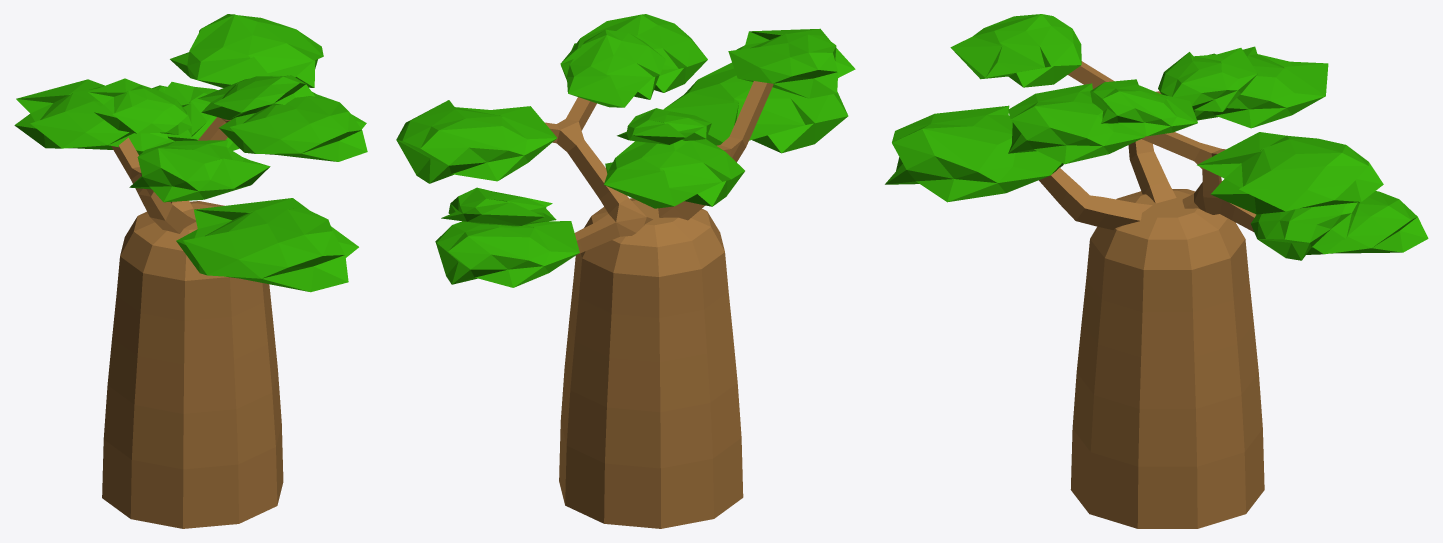
Rendered from LV2Tree.glb.
The picture shows the model from 3 angles, left to right: view 1: azimuth 30°, elevation 25°; view 2: azimuth 150°, elevation 25°; view 3: azimuth 270°, elevation 25°; orthographic projection. The views are drawn at different scales.
Parts seen in each view (by area): view 1: Cube; view 2: Cube; view 3: Cube.
Part boxes in pixels (left/top/right/bottom): Cube: left=14, top=14, right=367, bottom=528; Cube: left=396, top=14, right=855, bottom=528; Cube: left=885, top=14, right=1428, bottom=528.
Size of the model in its own units: 5.66 by 7.25 by 8.25.
